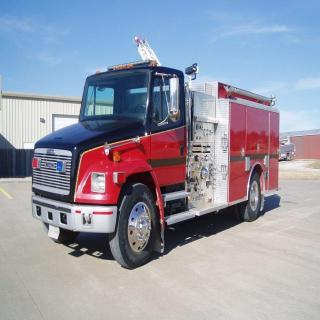Fire_truck: (31, 34, 280, 270), (279, 136, 296, 160)
